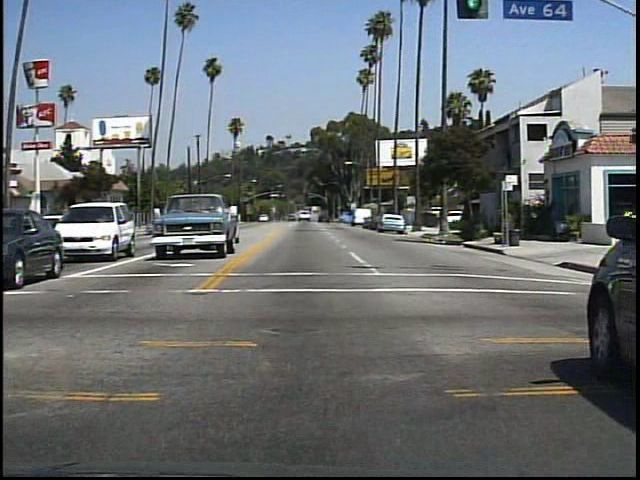person: (474, 199, 497, 244)
